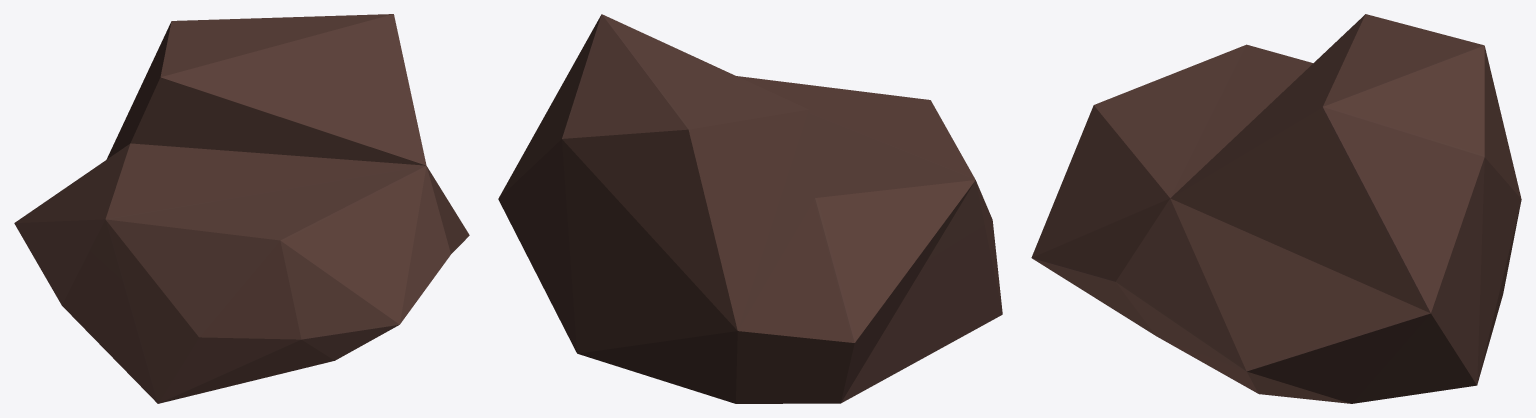
The model's file is Boulder-B11.fbx.
3 views of the same model, side by side, from view 1: azimuth 30°, elevation 25°; view 2: azimuth 150°, elevation 25°; view 3: azimuth 270°, elevation 25° (orthographic). The views are drawn at different scales.
Visible parts, largest first — view 1: Boulder-B11; view 2: Boulder-B11; view 3: Boulder-B11.
Boxes of the visible parts, x1,y1,x2,y2 form: Boulder-B11: (14, 14, 469, 403); Boulder-B11: (498, 14, 1002, 403); Boulder-B11: (1031, 14, 1521, 403).
Size of the model in its own units: 120 by 80.52 by 118.
